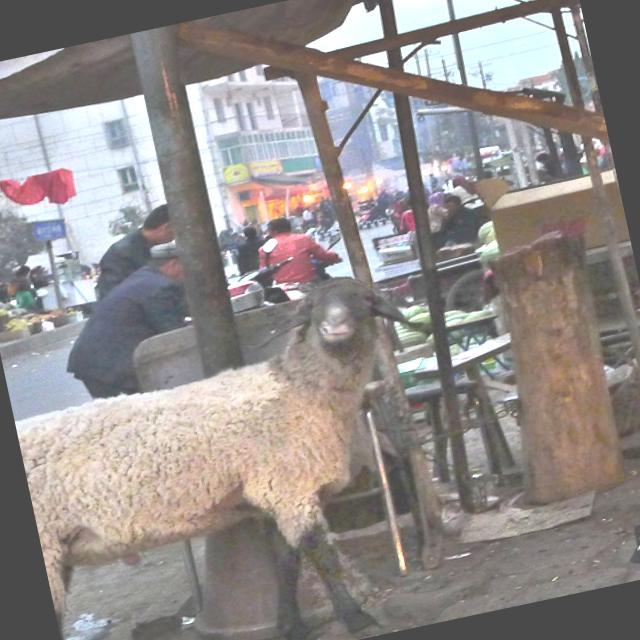Vehicle: (218, 232, 316, 312), (306, 233, 348, 282)
